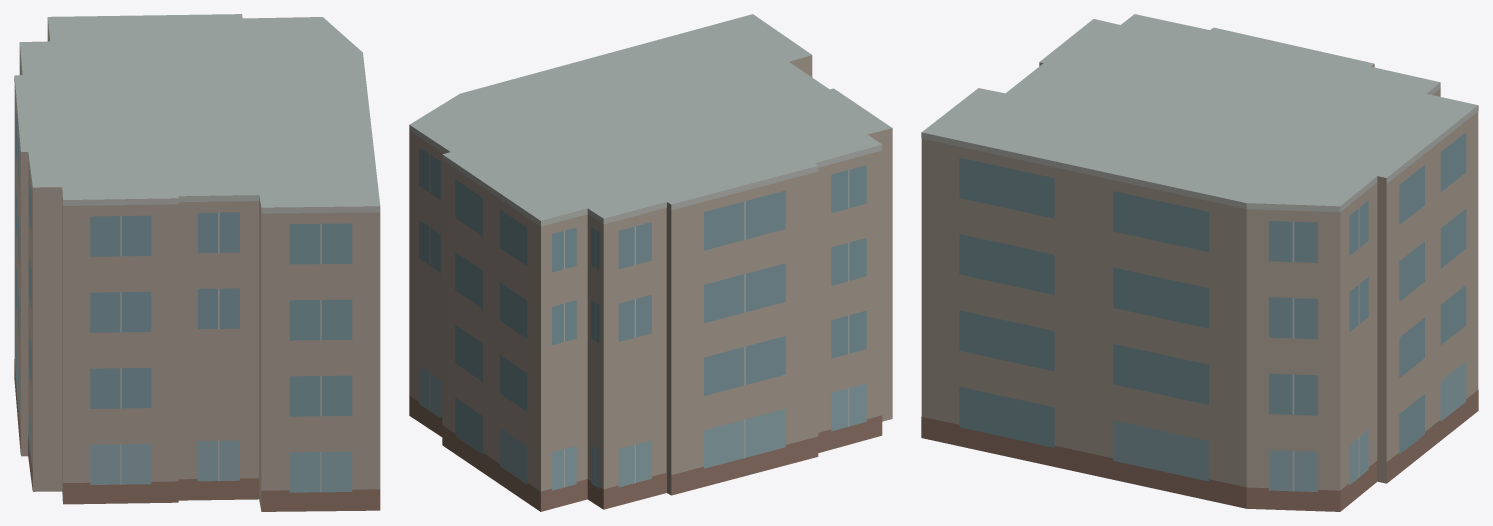
The model's file is survey-upis-32799561.glb.
3 renders of one model, left to right at view 1: azimuth 30°, elevation 25°; view 2: azimuth 150°, elevation 25°; view 3: azimuth 270°, elevation 25°, orthographic. The views are drawn at different scales.
Visible parts, largest first — view 1: survey-upis-32799561.tmp; view 2: survey-upis-32799561.tmp; view 3: survey-upis-32799561.tmp.
Part boxes in pixels (x1,y1,x2,y2): survey-upis-32799561.tmp: (14,14,380,511); survey-upis-32799561.tmp: (409,14,892,511); survey-upis-32799561.tmp: (921,14,1478,511).
Bounding box in the file's own units: 16.74 × 12.4 × 20.49.
